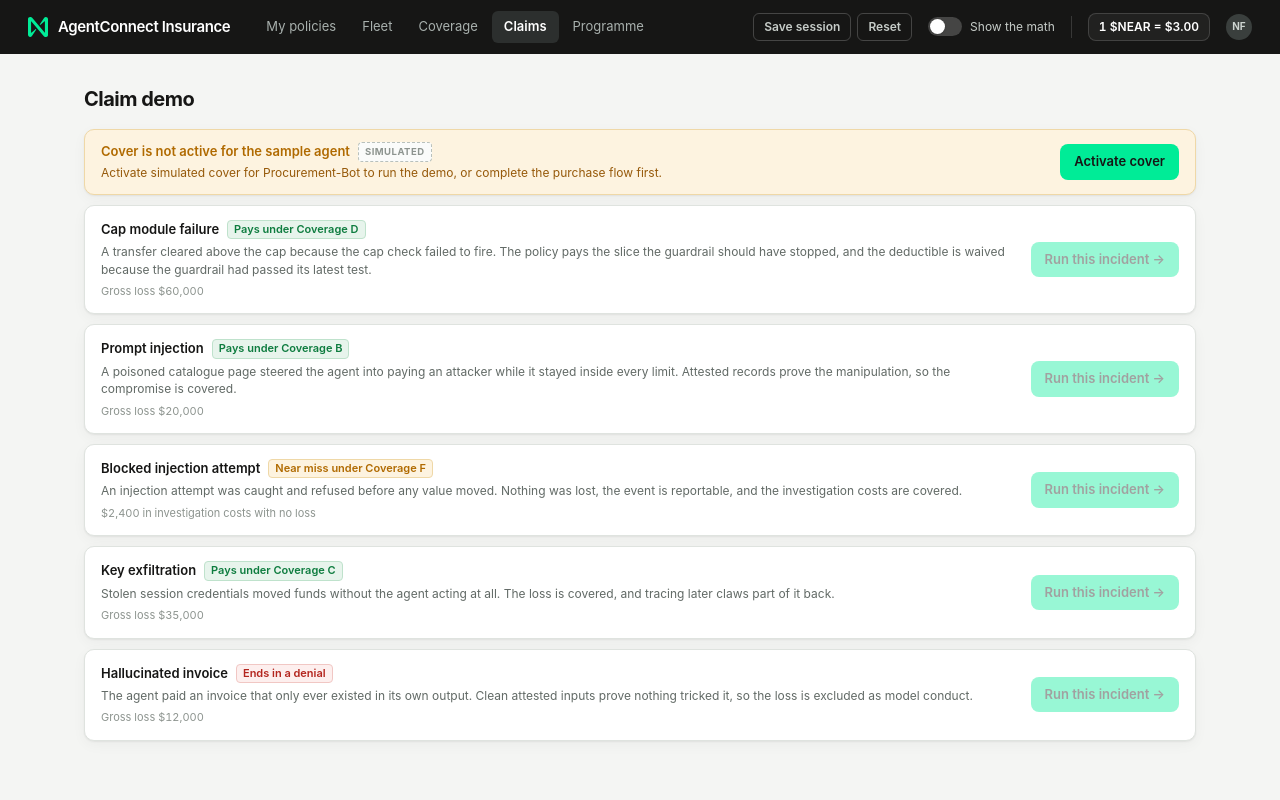
picker › without cover the runs stay locked until one-click activation
Expected: the element with test id "demo-cover-strip" is shown, [84,129,1196,195]
Expected: the button with test id "run-demo-s-03" is disabled, [1031,242,1179,277]
Click the button with test id "demo-activate-cover" at (1120, 162), box [1060,144,1179,180]
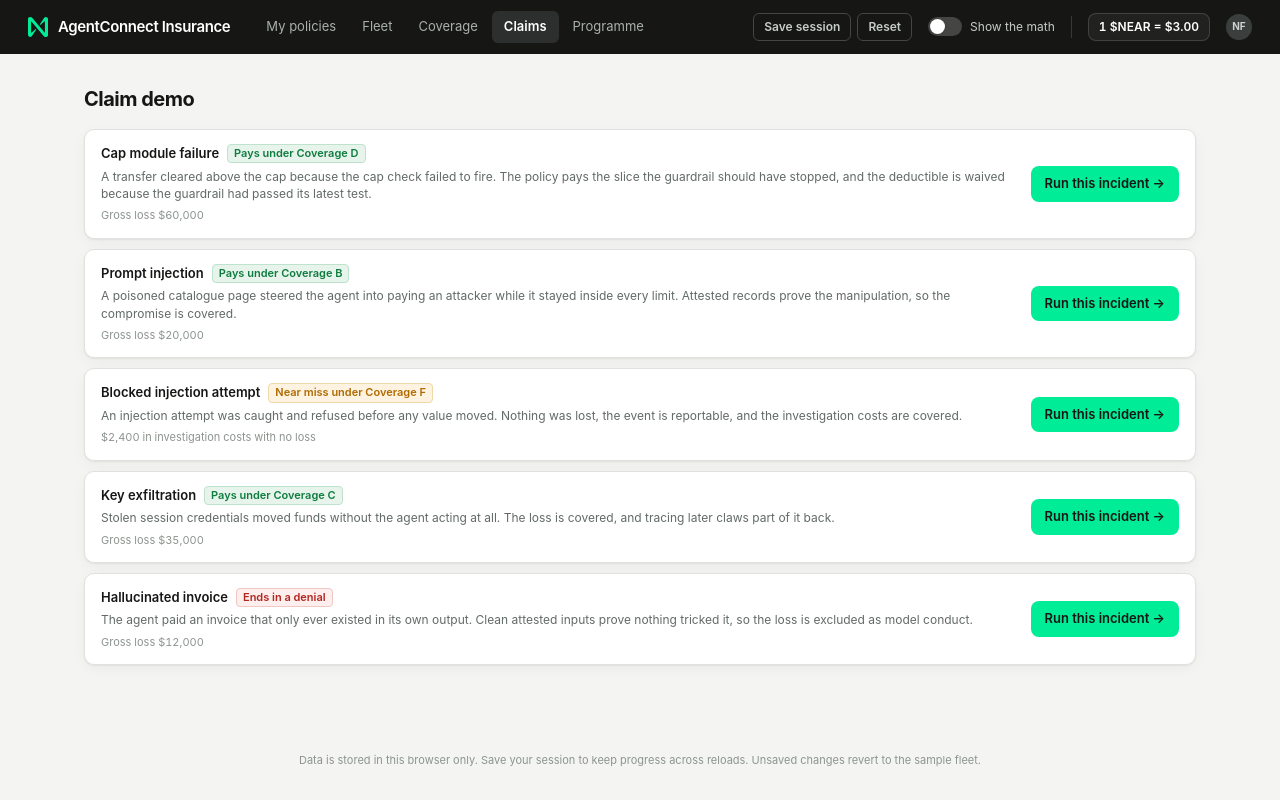
Expected: the element with test id "demo-cover-strip" is gone
Expected: the button with test id "run-demo-s-03" is enabled, [1031,166,1179,202]
